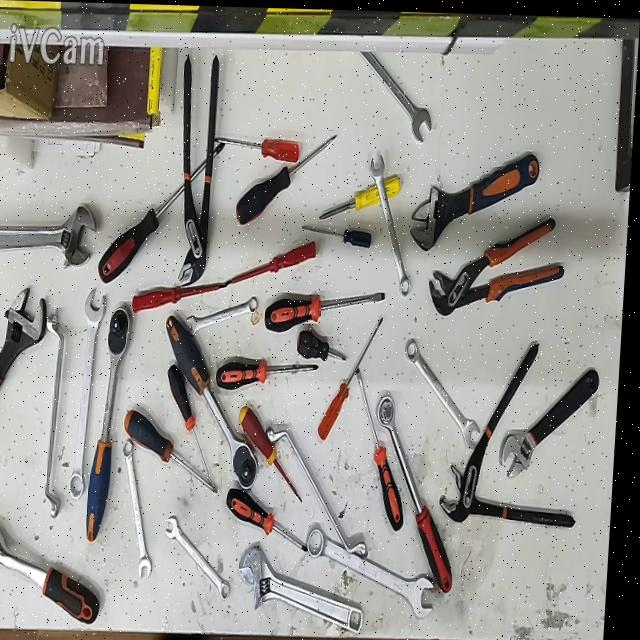Screwdriver: (101, 141, 229, 282), (239, 134, 338, 224), (322, 314, 387, 439), (361, 364, 410, 528), (129, 408, 223, 493), (243, 406, 309, 499), (232, 486, 314, 551), (172, 362, 216, 477), (268, 289, 388, 329), (320, 174, 402, 217), (231, 241, 320, 278), (220, 358, 322, 388), (136, 282, 231, 312), (216, 134, 301, 160), (302, 328, 351, 359), (304, 226, 375, 243)
